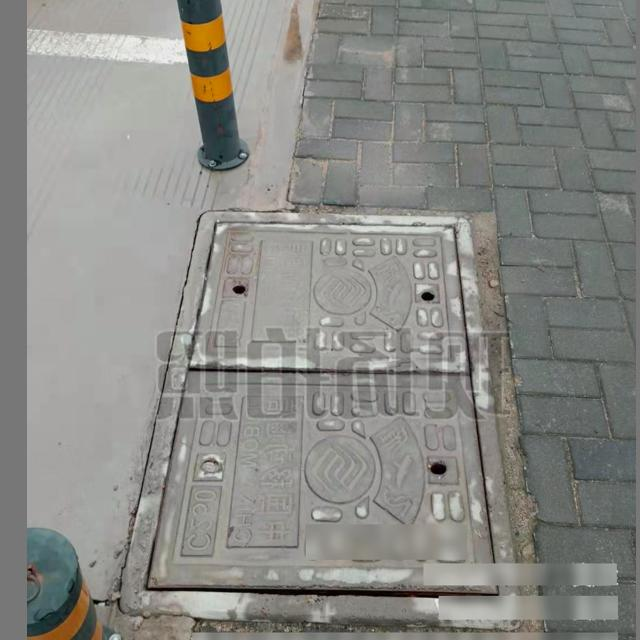good: (145, 207, 496, 605)
